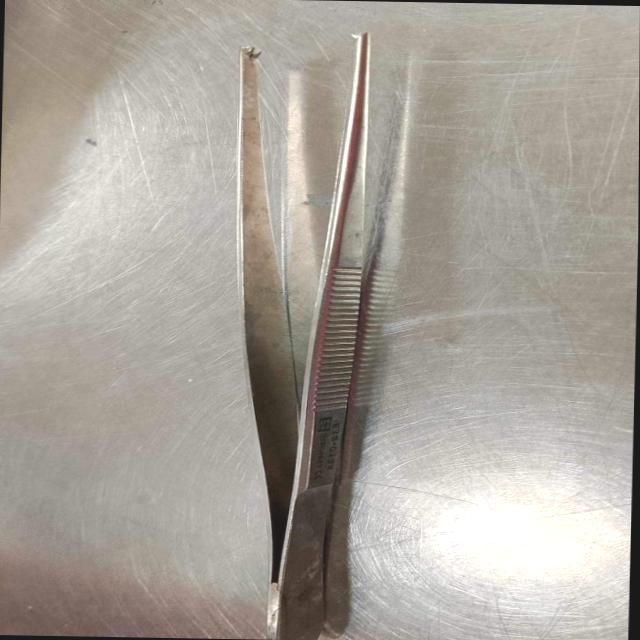General: (2, 1, 638, 639)
Sharps: (267, 30, 375, 639), (236, 43, 304, 618)
